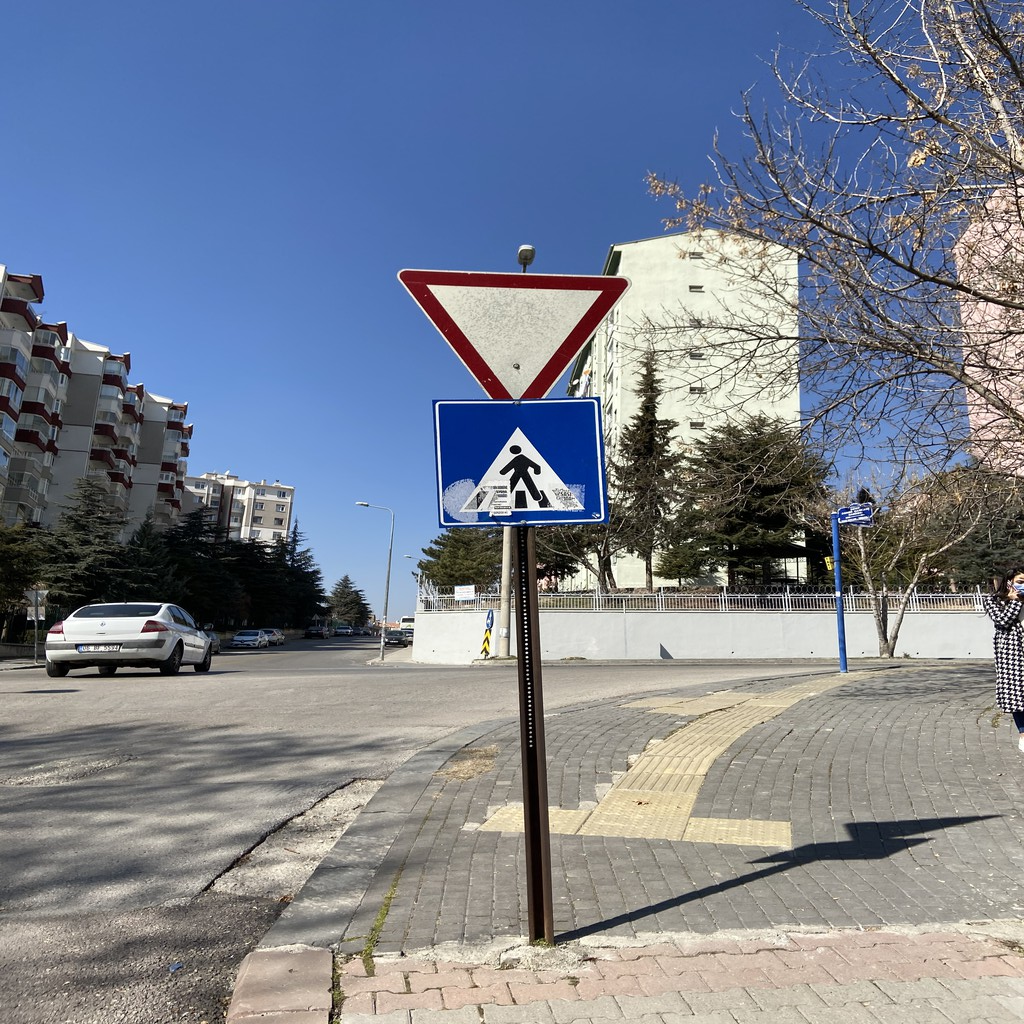Yaya Gecidi: (446, 404, 602, 517)
Yol Ver: (408, 261, 628, 399)
